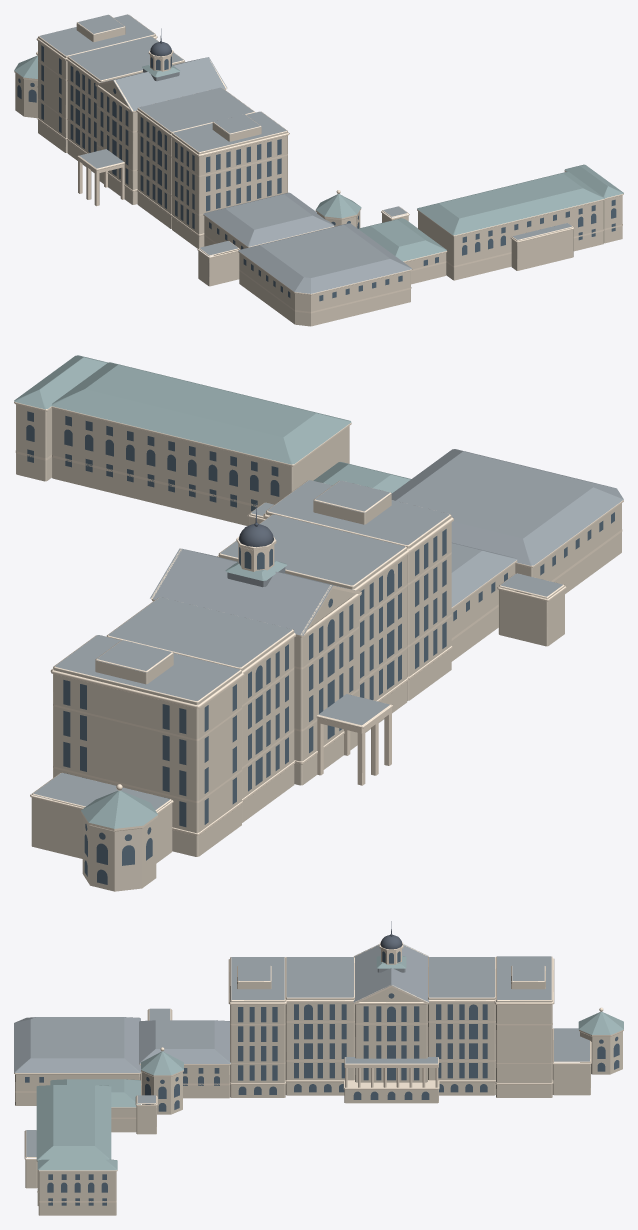
The model's file is ballantyne-hotel.glb.
3 renders of one model, top to bottom at view 1: azimuth 30°, elevation 25°; view 2: azimuth 150°, elevation 25°; view 3: azimuth 270°, elevation 25°, orthographic. The views are drawn at different scales.
Visible parts, largest first — view 1: The Ballantyne Hotel; view 2: The Ballantyne Hotel; view 3: The Ballantyne Hotel.
Boxes of the visible parts, bbox=[...] form: The Ballantyne Hotel: bbox=[14, 14, 623, 326]; The Ballantyne Hotel: bbox=[14, 355, 623, 891]; The Ballantyne Hotel: bbox=[14, 921, 623, 1215].
Size of the model in its own units: 122 by 49.15 by 176.
